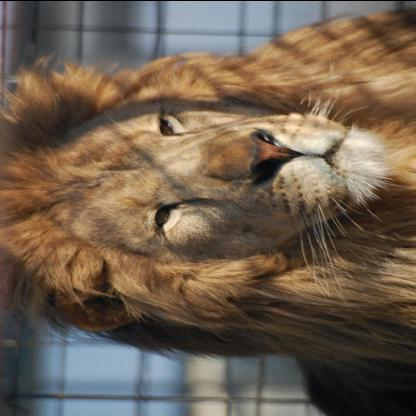lion: (2, 68, 390, 327)
